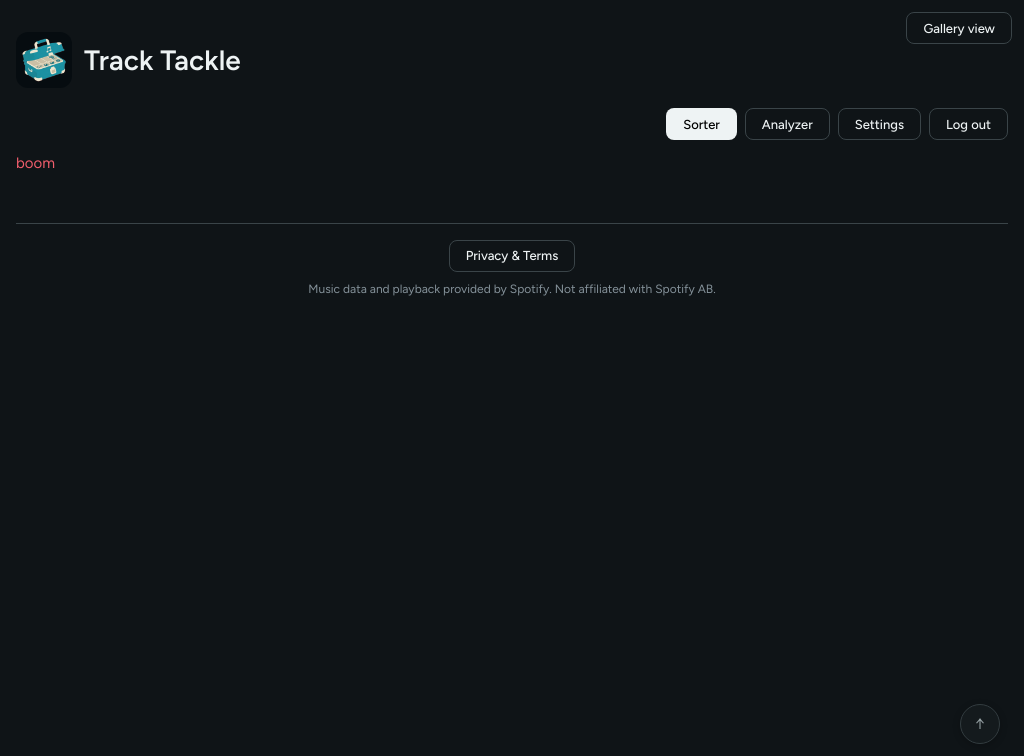
Scenario: shows Settings playlists instead of the error when the library already loaded them
Click the button "Settings" at (879, 124), box [838,108,921,140]
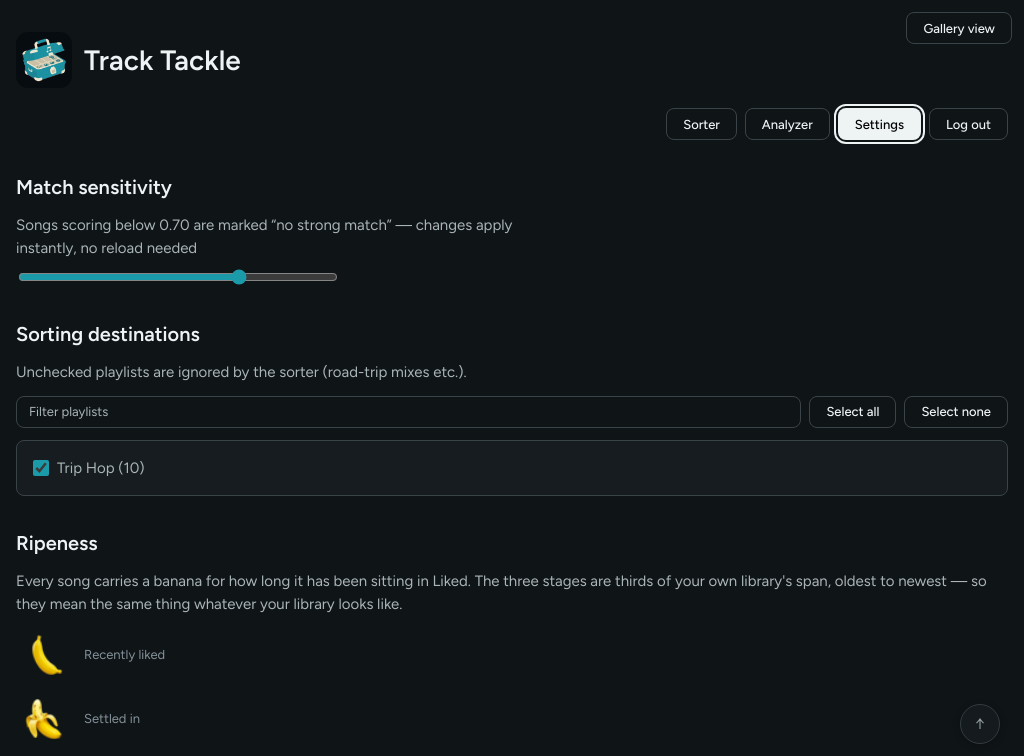
Result: the checkbox labelled "Trip Hop (10)" is shown at [33,460,49,476]
Result: the message "boom" is gone
